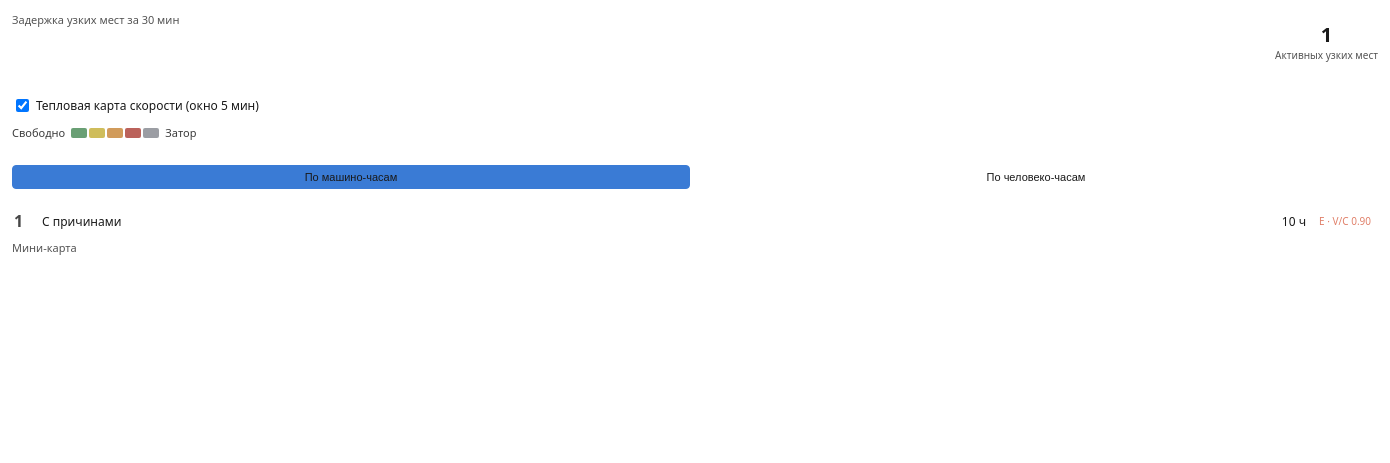
Scenario: BottlenecksTab › expanding a row renders its cause labels from contracts' CAUSES.ru
Click the text "С причинами": (82, 221) 42,212 -> 121,230
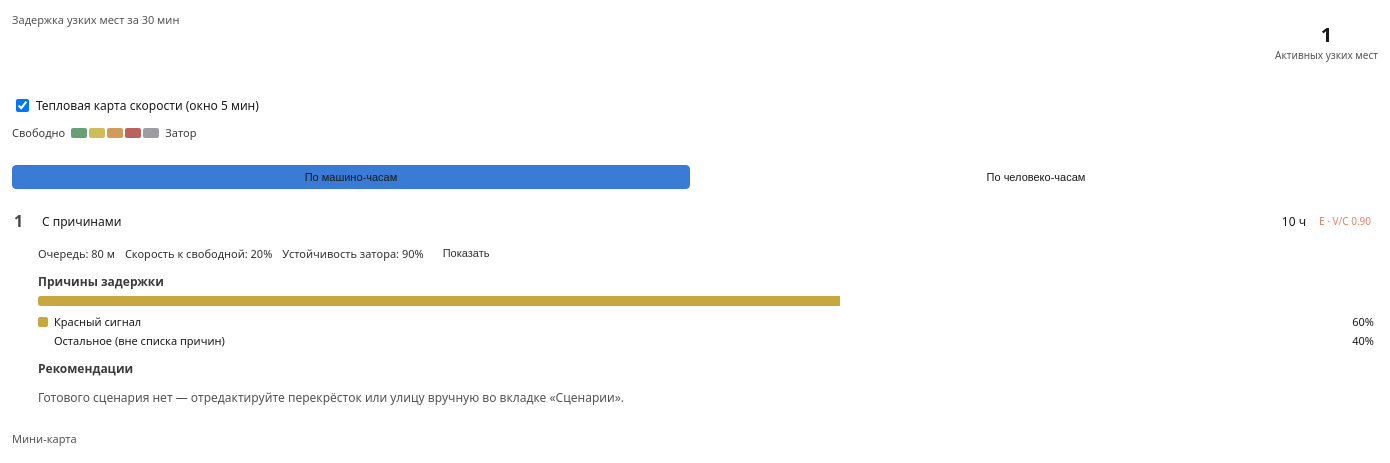
Expected: the text "Красный сигнал" is shown, 54,314 -> 141,329
